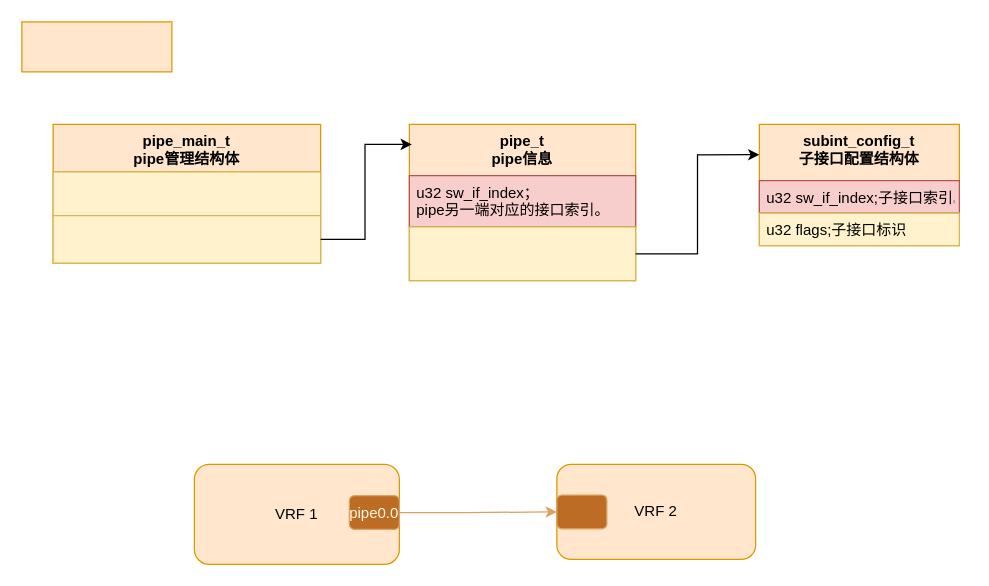
Some shapes in this 989 by 586 pixel diagram are drawn without their labels. Each missing label, with the centre of its shape:
PIPE 接口: point 96,46
pipe0.1: point 581,511
pipe_t *pipes; vector结构，下标是pipe0子接口索引: point 186,238
subint_config_t subint 当前子接口信息。: point 522,253
uword *instances； 记录已分配pipe实例id: point 186,193
